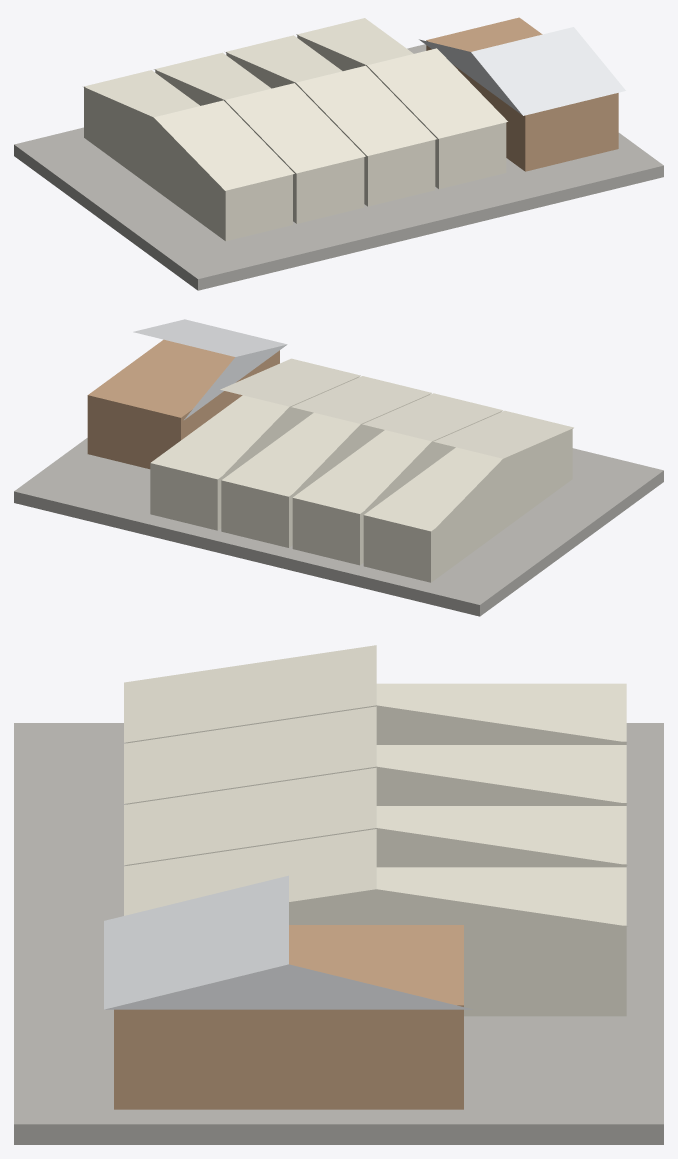
File: lm_110_trang_trai_dau_tay_phuc_bon_tu_thuy_canh_biofresh_ho_than_tho.glb
3 renders of one model, top to bottom at view 1: azimuth 30°, elevation 25°; view 2: azimuth 150°, elevation 25°; view 3: azimuth 270°, elevation 25°, orthographic. The views are drawn at different scales.
Visible parts, largest first — view 1: lm_110_trang_trai_dau_tay_phuc_bon_tu_thuy_canh_biofresh_ho_; view 2: lm_110_trang_trai_dau_tay_phuc_bon_tu_thuy_canh_biofresh_ho_; view 3: lm_110_trang_trai_dau_tay_phuc_bon_tu_thuy_canh_biofresh_ho_.
Part boxes in pixels (left/top/right/bottom): lm_110_trang_trai_dau_tay_phuc_bon_tu_thuy_canh_biofresh_ho_: left=14, top=17, right=663, bottom=290; lm_110_trang_trai_dau_tay_phuc_bon_tu_thuy_canh_biofresh_ho_: left=14, top=319, right=663, bottom=616; lm_110_trang_trai_dau_tay_phuc_bon_tu_thuy_canh_biofresh_ho_: left=14, top=645, right=663, bottom=1144.
Size of the model in its own units: 38 by 7.5 by 26.
